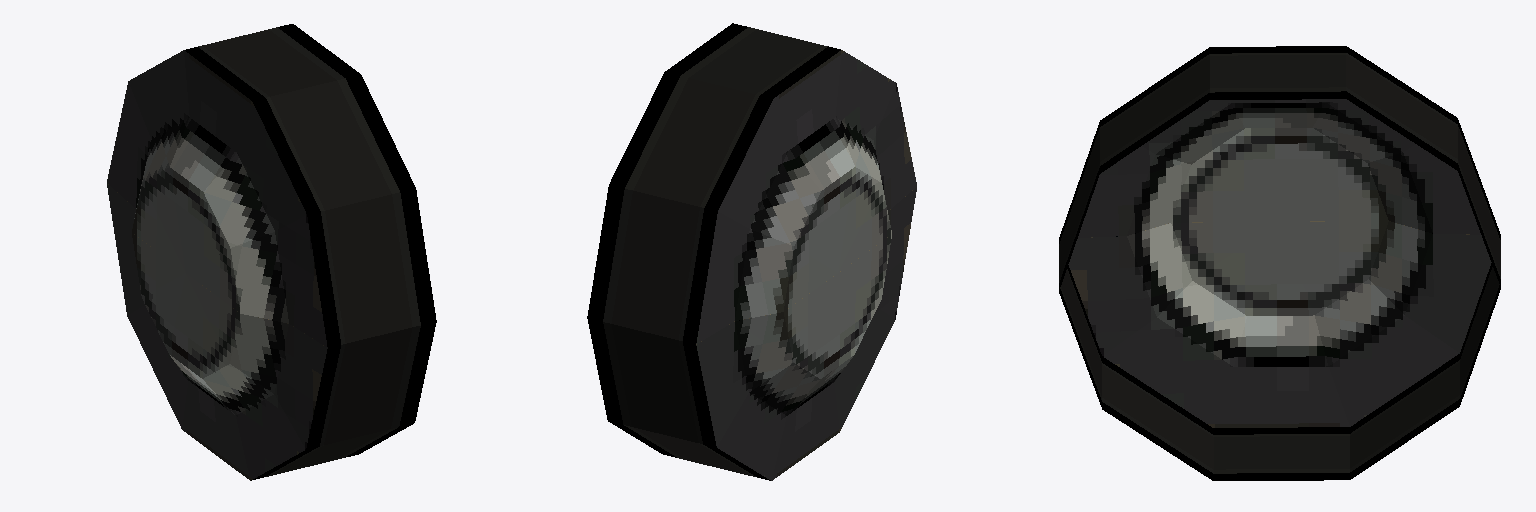
3 views of the same model, side by side, from view 1: azimuth 30°, elevation 25°; view 2: azimuth 150°, elevation 25°; view 3: azimuth 270°, elevation 25° (orthographic).
Parts seen in each view (by area): view 1: LlantaIzq; view 2: LlantaIzq; view 3: LlantaIzq.
Boxes of the visible parts, x1=… form: LlantaIzq: x1=107, y1=24, x2=436, y2=480; LlantaIzq: x1=587, y1=23, x2=916, y2=480; LlantaIzq: x1=1059, y1=46, x2=1500, y2=480.
Size of the model in its own units: 0.3104 by 0.8074 by 0.8466.
1 materials, 1 textured.